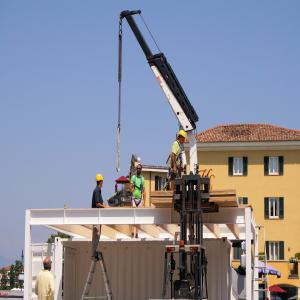none: (44, 258, 53, 274), (138, 164, 143, 176)
yellow: (179, 129, 187, 146), (97, 175, 104, 189)
